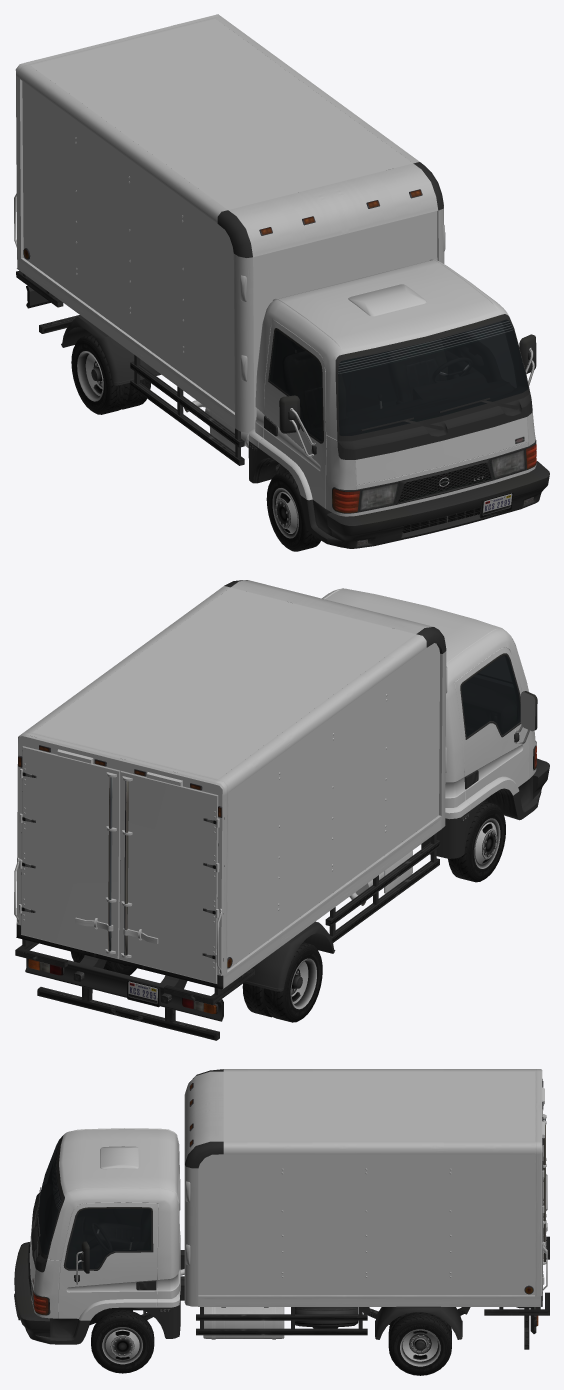
File: lct.glb
3 views of the same model, one above another, from view 1: azimuth 30°, elevation 25°; view 2: azimuth 150°, elevation 25°; view 3: azimuth 270°, elevation 25° (orthographic). The views are drawn at different scales.
Visible parts, largest first — view 1: LCT300095_Body_lct3000_Bodymat_0, LCT300095_Bottom_UCB_BOTTOM_0, LCT300095_Interior_UCB_Interiors_2_0, LCT300095_Windshield_UCB_Lights_and_Glass_Transperent_0, LCT300095_Bumper_front_UCB_BOTTOM_0, LCT300095_Glass_Passenger_UCB_Lights_and_Glass_Transperent_0, wheel_RR, wheel_FR, LCT300095_Headlights_Glass_UCB_Lights_and_Glass_Transperent_, LCT300095_Headlights_UCB_Lights_and_Glass_0, LCT300095_Glass_Driver_UCB_Lights_and_Glass_Transperent_0; view 2: LCT300095_Body_lct3000_Bodymat_0, LCT300095_Bottom_UCB_BOTTOM_0, LCT300095_Reardoor_Left_lct3000_Bodymat_0, LCT300095_Reardoor_Right_lct3000_Bodymat_0, wheel_RR, LCT300095_Glass_Passenger_UCB_Lights_and_Glass_Transperent_0, LCT300095_Bumper_rear_UCB_BOTTOM_0, wheel_FR, LCT300095_Interior_UCB_Interiors_2_0, LCT300095_Reardoor_Left_Inner_UCB_BOTTOM_0, LCT300095_Reardoor_Right_Inner_UCB_BOTTOM_0, LCT300095_Taillights_Glass_UCB_Lights_and_Glass_Transperent_ (+1 smaller); view 3: LCT300095_Body_lct3000_Bodymat_0, LCT300095_Bottom_UCB_BOTTOM_0, LCT300095_Interior_UCB_Interiors_2_0, LCT300095_Glass_Driver_UCB_Lights_and_Glass_Transperent_0, wheel_RL, wheel_FL, LCT300095_Bumper_front_UCB_BOTTOM_0, LCT300095_Windshield_UCB_Lights_and_Glass_Transperent_0, LCT300095_Reardoor_Left_Inner_UCB_BOTTOM_0.
Boxes of the visible parts, x1=… form: LCT300095_Body_lct3000_Bodymat_0: x1=15, y1=19, x2=536, y2=516; LCT300095_Bottom_UCB_BOTTOM_0: x1=14, y1=14, x2=536, y2=543; LCT300095_Interior_UCB_Interiors_2_0: x1=270, y1=320, x2=527, y2=441; LCT300095_Windshield_UCB_Lights_and_Glass_Transperent_0: x1=338, y1=319, x2=528, y2=435; LCT300095_Bumper_front_UCB_BOTTOM_0: x1=326, y1=461, x2=549, y2=548; LCT300095_Glass_Passenger_UCB_Lights_and_Glass_Transperent_0: x1=269, y1=330, x2=322, y2=441; wheel_RR: x1=71, y1=334, x2=150, y2=414; wheel_FR: x1=266, y1=471, x2=320, y2=551; LCT300095_Headlights_Glass_UCB_Lights_and_Glass_Transperent_: x1=332, y1=444, x2=536, y2=512; LCT300095_Headlights_UCB_Lights_and_Glass_0: x1=360, y1=450, x2=524, y2=510; LCT300095_Glass_Driver_UCB_Lights_and_Glass_Transperent_0: x1=468, y1=322, x2=515, y2=387; LCT300095_Body_lct3000_Bodymat_0: x1=16, y1=587, x2=536, y2=975; LCT300095_Bottom_UCB_BOTTOM_0: x1=14, y1=580, x2=537, y2=1040; LCT300095_Reardoor_Left_lct3000_Bodymat_0: x1=21, y1=746, x2=120, y2=959; LCT300095_Reardoor_Right_lct3000_Bodymat_0: x1=119, y1=770, x2=218, y2=983; wheel_RR: x1=242, y1=942, x2=322, y2=1022; LCT300095_Glass_Passenger_UCB_Lights_and_Glass_Transperent_0: x1=461, y1=655, x2=520, y2=736; LCT300095_Bumper_rear_UCB_BOTTOM_0: x1=25, y1=958, x2=223, y2=1021; wheel_FR: x1=448, y1=801, x2=505, y2=882; LCT300095_Interior_UCB_Interiors_2_0: x1=462, y1=655, x2=520, y2=736; LCT300095_Reardoor_Left_Inner_UCB_BOTTOM_0: x1=21, y1=771, x2=120, y2=954; LCT300095_Reardoor_Right_Inner_UCB_BOTTOM_0: x1=121, y1=776, x2=218, y2=959; LCT300095_Taillights_Glass_UCB_Lights_and_Glass_Transperent_: x1=28, y1=959, x2=216, y2=1013; LCT300095_Body_lct3000_Bodymat_0: x1=29, y1=1069, x2=544, y2=1320; LCT300095_Bottom_UCB_BOTTOM_0: x1=27, y1=1069, x2=549, y2=1349; LCT300095_Interior_UCB_Interiors_2_0: x1=39, y1=1149, x2=153, y2=1268; LCT300095_Glass_Driver_UCB_Lights_and_Glass_Transperent_0: x1=65, y1=1208, x2=151, y2=1268; wheel_RL: x1=388, y1=1312, x2=451, y2=1375; wheel_FL: x1=91, y1=1310, x2=154, y2=1373; LCT300095_Bumper_front_UCB_BOTTOM_0: x1=14, y1=1242, x2=50, y2=1343; LCT300095_Windshield_UCB_Lights_and_Glass_Transperent_0: x1=38, y1=1138, x2=61, y2=1254; LCT300095_Reardoor_Left_Inner_UCB_BOTTOM_0: x1=542, y1=1120, x2=547, y2=1276.
Bounding box in the file's own units: 2.95 × 3.22 × 6.8.
8 materials, 7 textured.
